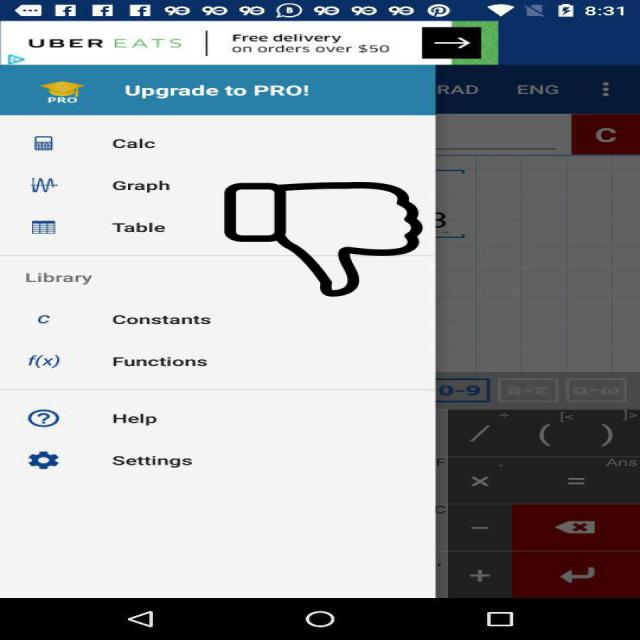obstruction: (222, 182, 426, 297)
